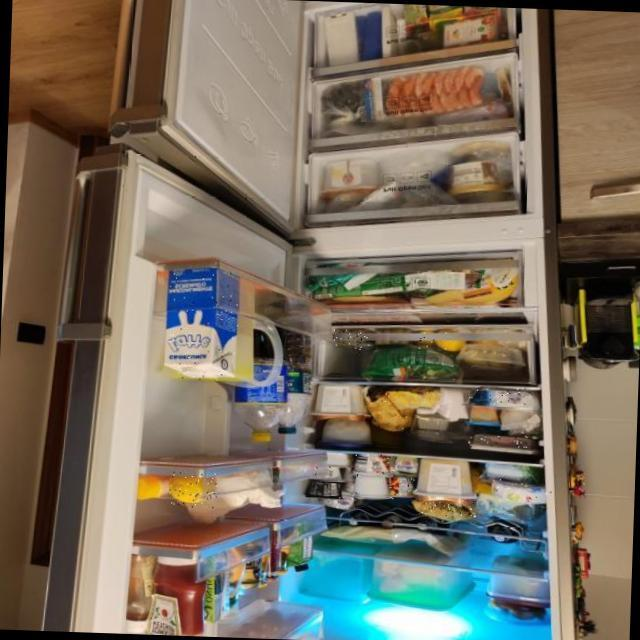Carne cerdo: (468, 433, 534, 448)
Queso: (372, 387, 409, 431), (487, 477, 550, 501), (413, 497, 474, 521), (465, 385, 533, 405), (391, 456, 418, 473)
Yogur: (304, 478, 353, 498), (350, 453, 389, 476), (385, 476, 416, 499), (311, 464, 354, 480), (323, 490, 356, 509)
